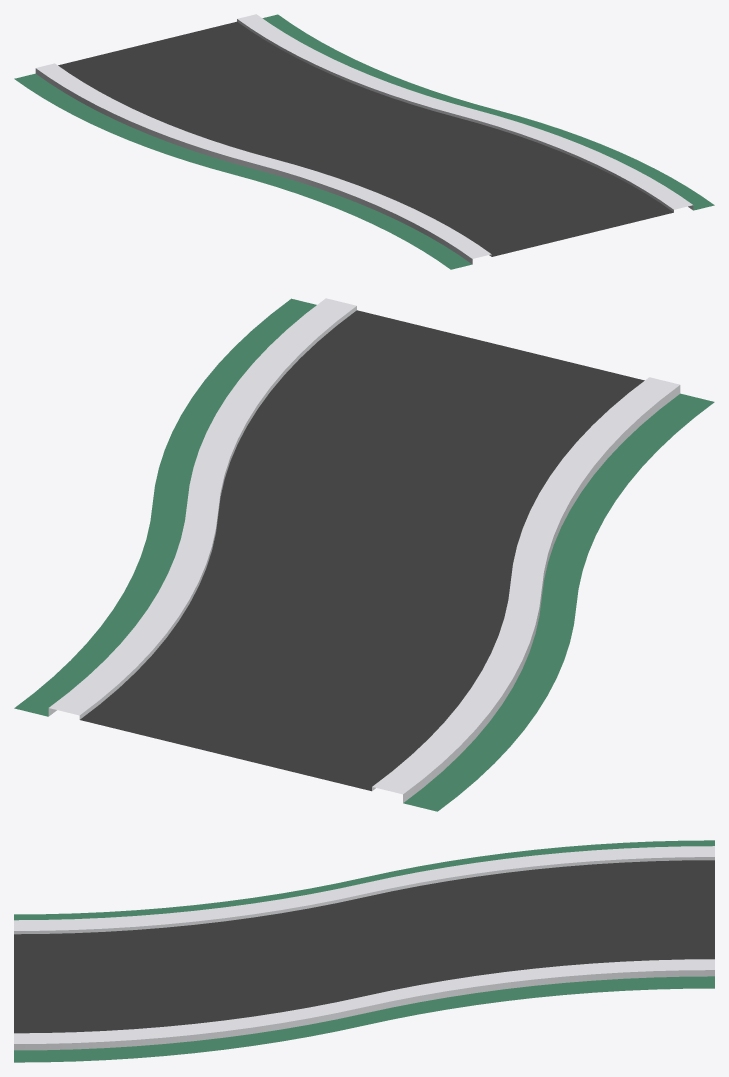
The model's file is roadCurved.obj.
The picture shows the model from 3 angles, top to bottom: view 1: azimuth 30°, elevation 25°; view 2: azimuth 150°, elevation 25°; view 3: azimuth 270°, elevation 25°; orthographic projection. The views are drawn at different scales.
Visible parts, largest first — view 1: roadCurved; view 2: roadCurved; view 3: roadCurved.
Boxes of the visible parts, box(x1,y1,x2,y2) form: roadCurved: box(14, 14, 714, 269); roadCurved: box(14, 298, 714, 811); roadCurved: box(14, 840, 714, 1062).
Size of the model in its own units: 1.5 by 0.02 by 2.
